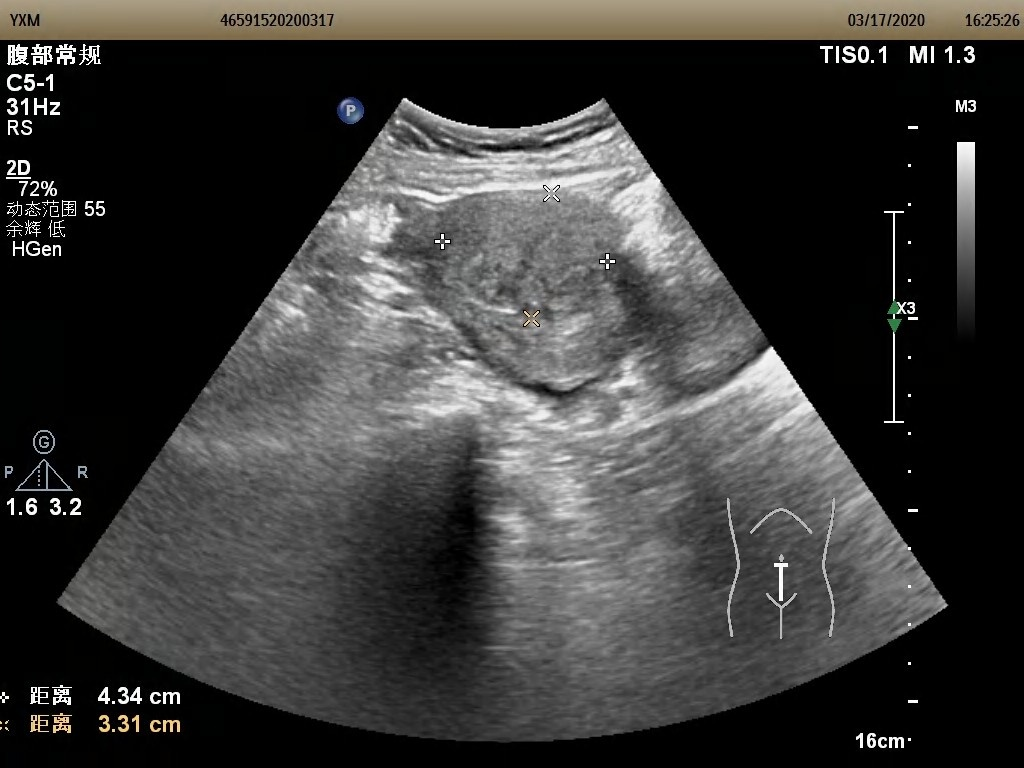肌瘤: (442, 195, 612, 319)
